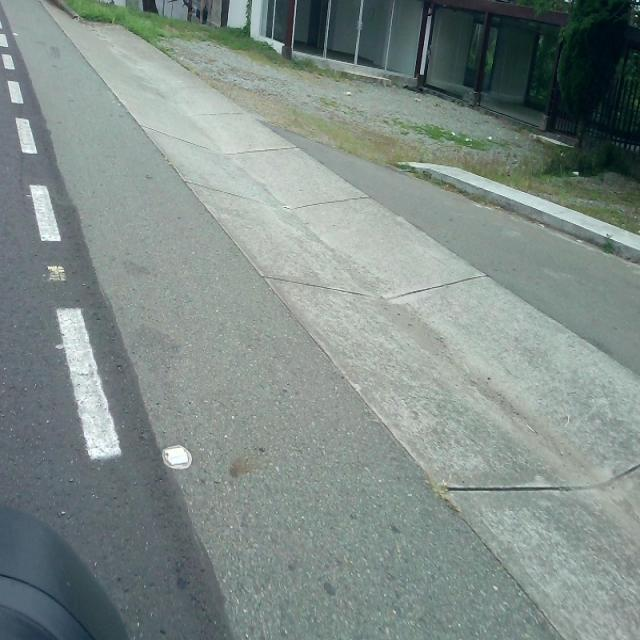DITCH: (2, 1, 638, 638), (1, 4, 639, 637)
